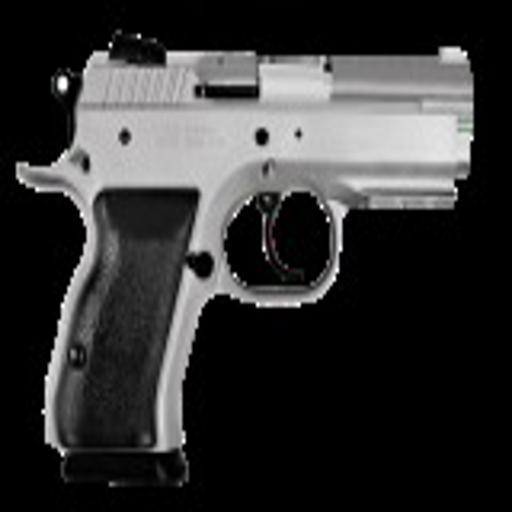Handgun: (15, 28, 472, 485)
